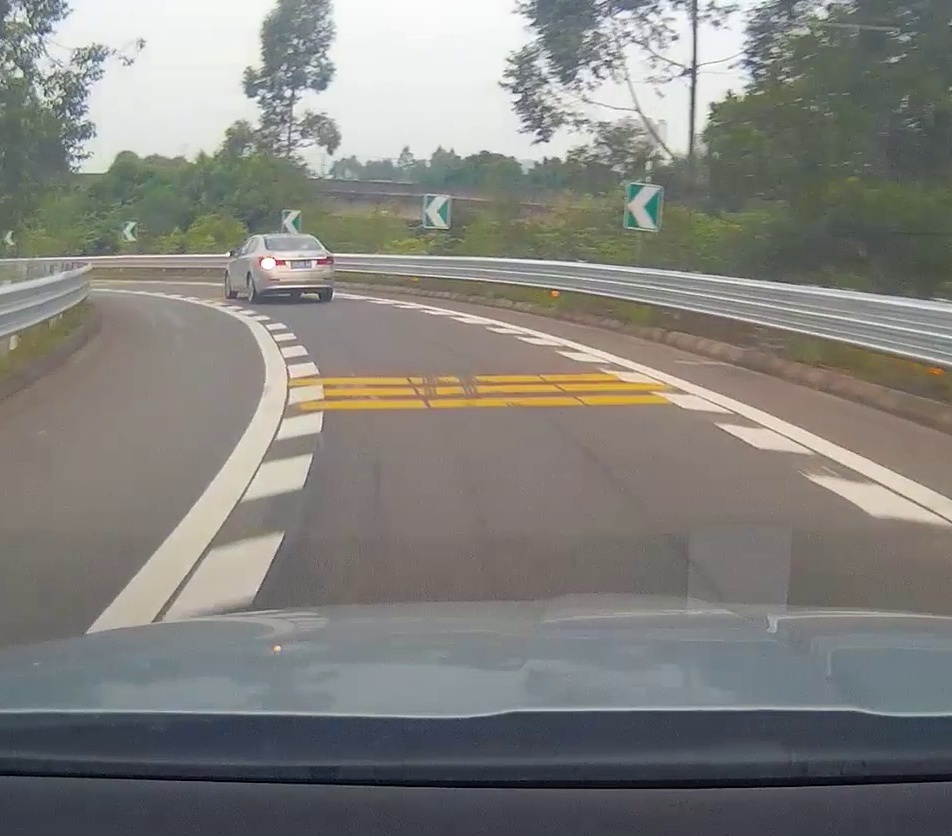L_light: (260, 258, 285, 269)
R_light: (317, 256, 334, 265)
T_light: (291, 246, 304, 250)
day-left: (258, 234, 335, 303)
